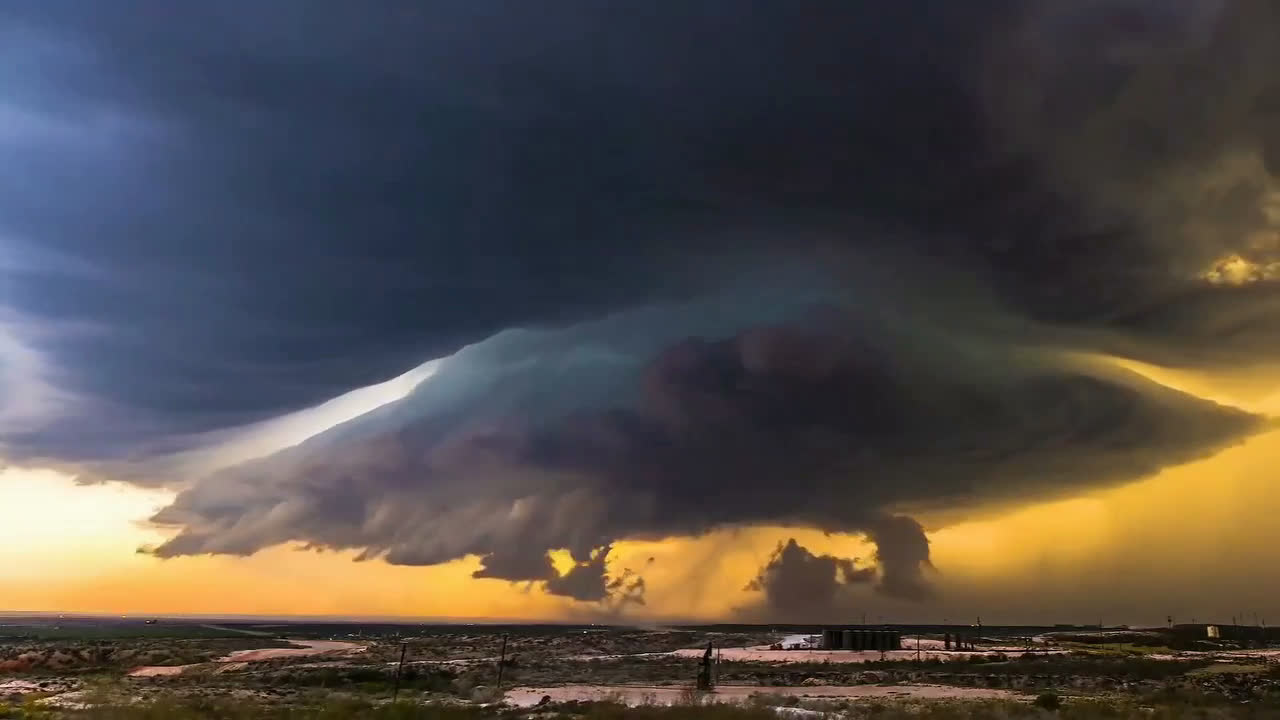RFD: (512, 429, 1277, 624)
mesocyclone: (3, 3, 1278, 571)
wall cloud: (137, 305, 1278, 606)
